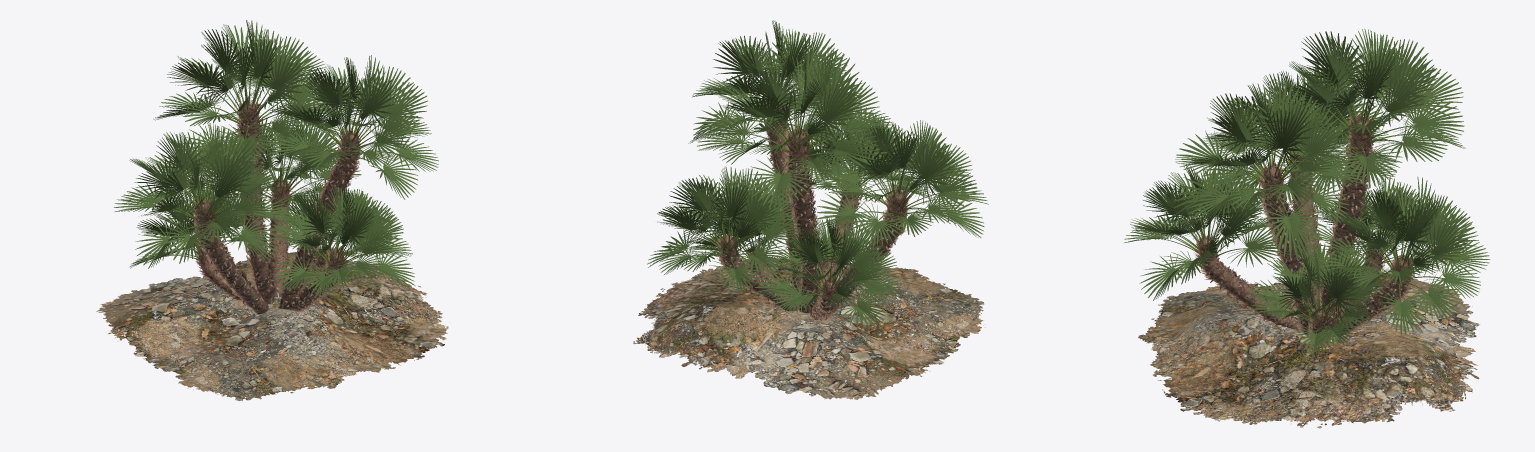
The model's file is PalmaNana.glb.
3 renders of one model, left to right at view 1: azimuth 30°, elevation 25°; view 2: azimuth 150°, elevation 25°; view 3: azimuth 270°, elevation 25°, orthographic. The views are drawn at different scales.
Visible parts, largest first — view 1: FogliePalma2, Terriccio, FogliePalma1, PeliPalma, PeliPalma2, GamboPalma, Tronchi, Spuntoni; view 2: FogliePalma2, Terriccio, FogliePalma1, GamboPalma, PeliPalma2, PeliPalma, Tronchi, Spuntoni; view 3: FogliePalma2, Terriccio, FogliePalma1, PeliPalma, GamboPalma, PeliPalma2, Tronchi, Spuntoni.
Part boxes in pixels (box(x1,y1,x2,y2)): FogliePalma2: box(114, 20, 427, 282); Terriccio: box(96, 252, 448, 400); FogliePalma1: box(121, 65, 438, 297); PeliPalma: box(193, 100, 360, 313); PeliPalma2: box(193, 101, 361, 310); GamboPalma: box(153, 51, 399, 276); Tronchi: box(196, 105, 356, 313); Spuntoni: box(203, 155, 350, 311); FogliePalma2: box(657, 20, 977, 313); Terriccio: box(633, 256, 985, 399); FogliePalma1: box(647, 74, 988, 328); GamboPalma: box(679, 31, 946, 306); PeliPalma2: box(716, 105, 908, 320); PeliPalma: box(716, 104, 909, 319); Tronchi: box(722, 117, 903, 318); Spuntoni: box(732, 149, 896, 320); FogliePalma2: box(1124, 29, 1490, 322); Terriccio: box(1138, 273, 1480, 428); FogliePalma1: box(1132, 62, 1480, 356); PeliPalma: box(1196, 113, 1408, 347); GamboPalma: box(1163, 64, 1450, 335); PeliPalma2: box(1194, 113, 1414, 346); Tronchi: box(1201, 120, 1406, 336); Spuntoni: box(1210, 171, 1395, 344).
Bounding box in the file's own units: 2.09 × 1.82 × 2.09.
Materials: 7 (7 with a texture image).
